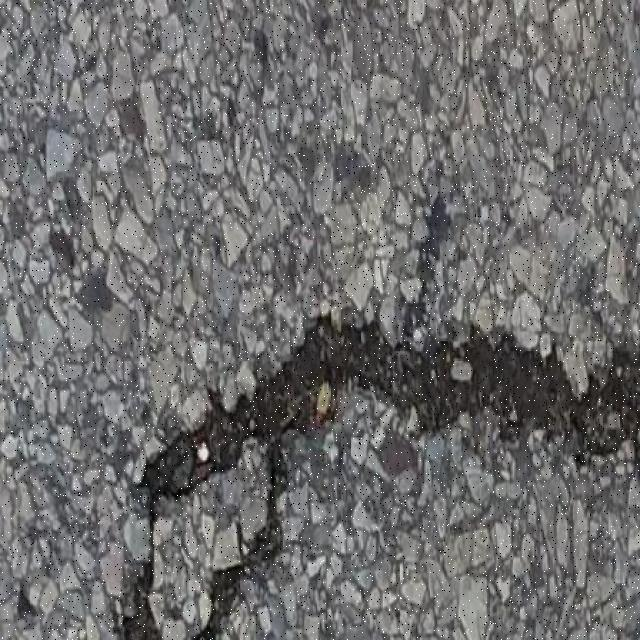Crack: (151, 311, 640, 640), (128, 581, 162, 639)
